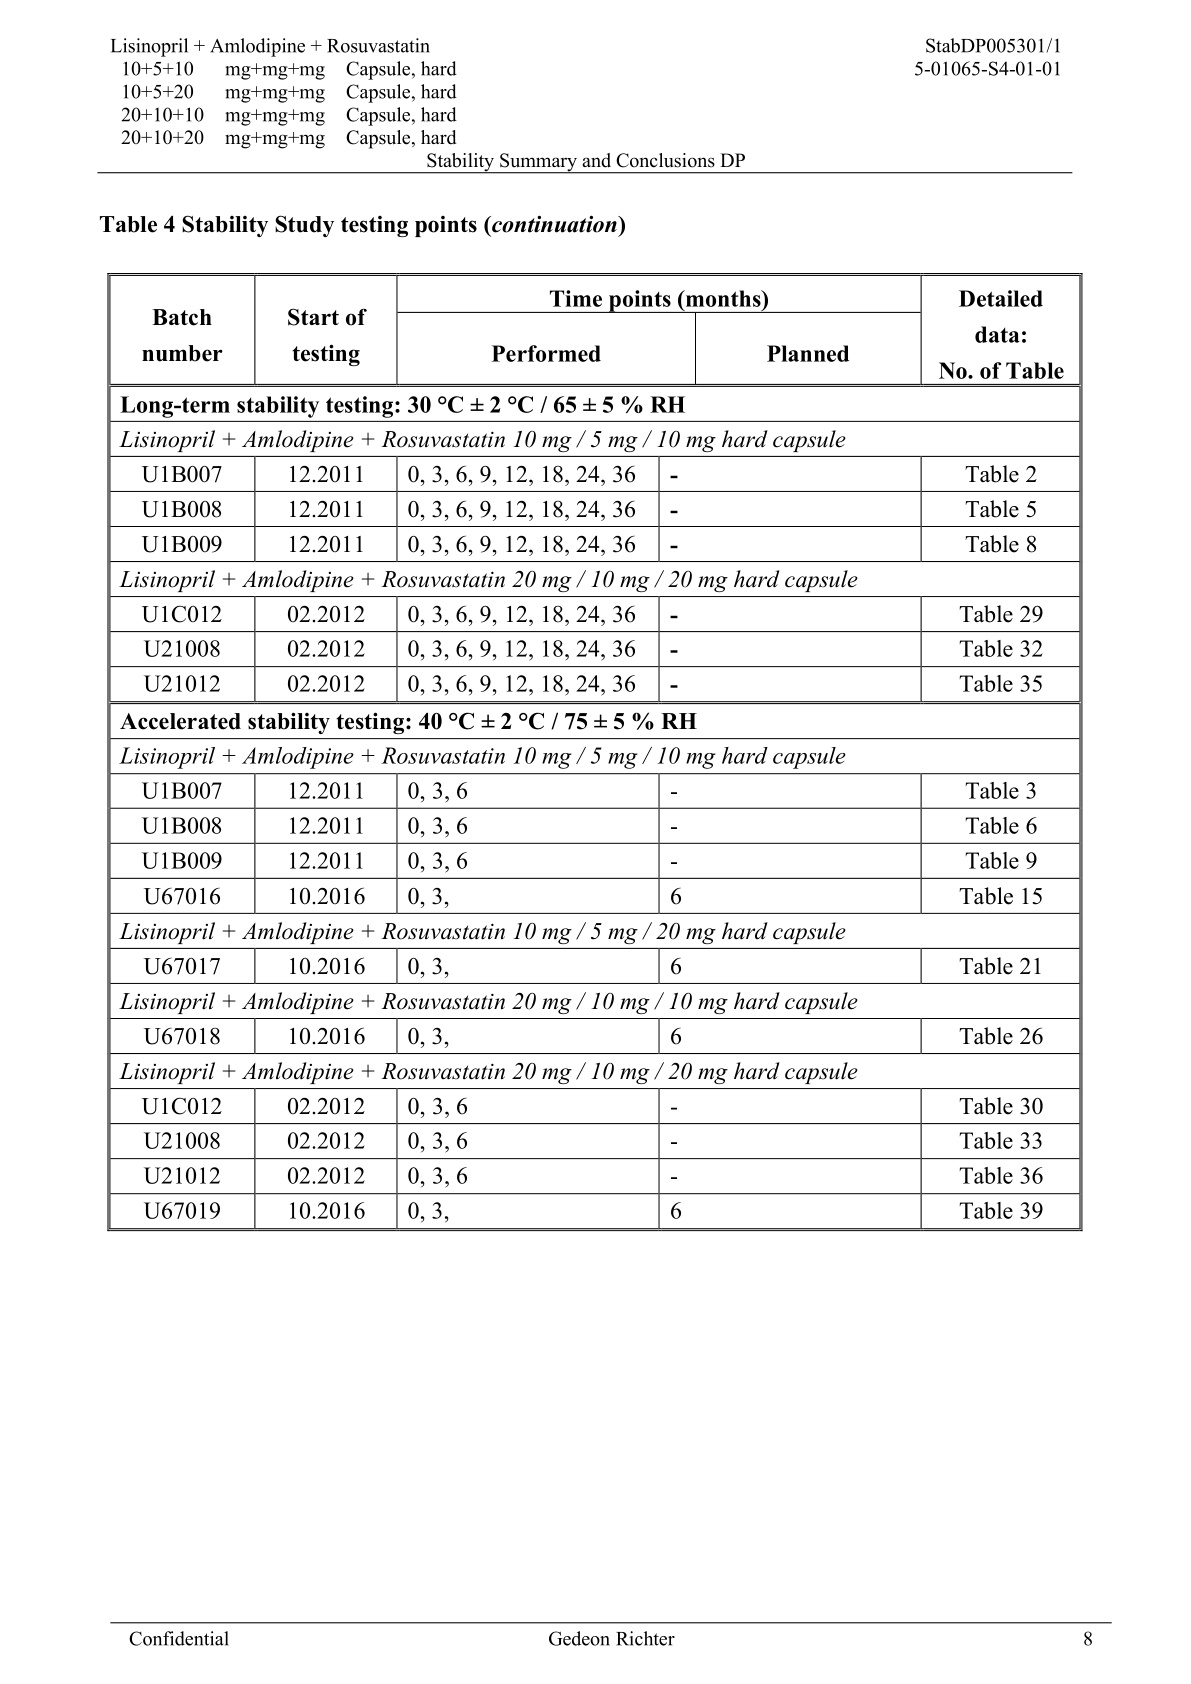merged_cells: (106, 272, 1084, 1230)
nolines: (110, 33, 458, 149)
